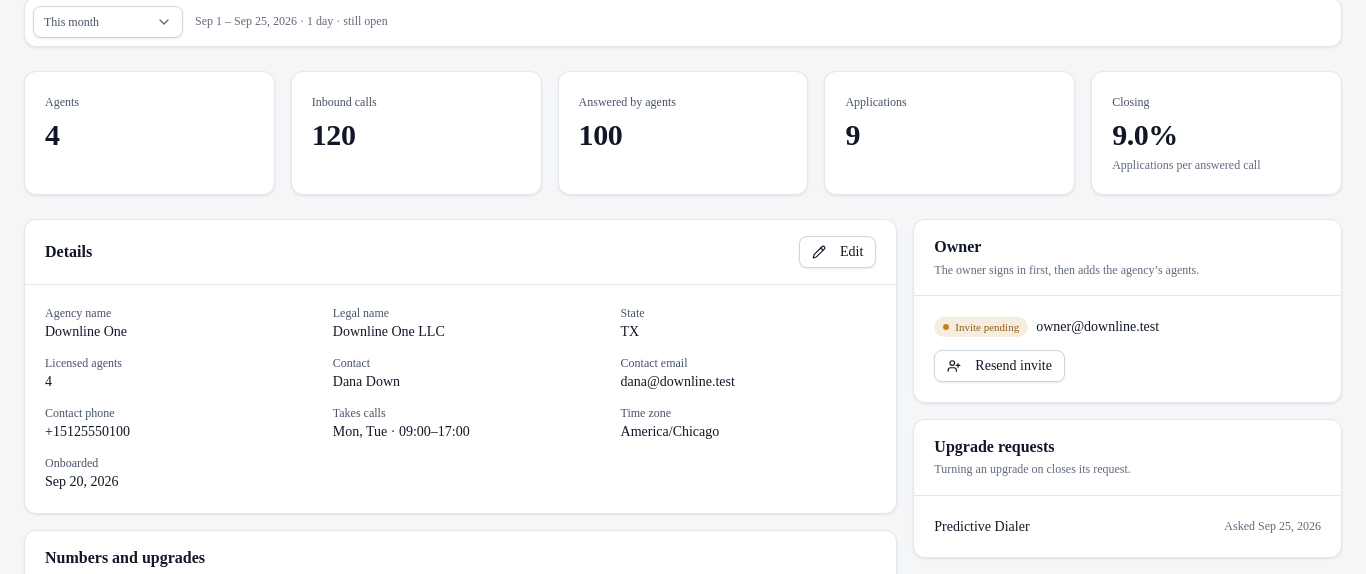
Scenario: white-label screens › /network/agencies/[tenantId] › cancels an edit without sending anything
expect the text "Dana Down" is shown: met, box [333,374,400,389]
Click the button "Edit" at (838, 252), box [799,236,876,268]
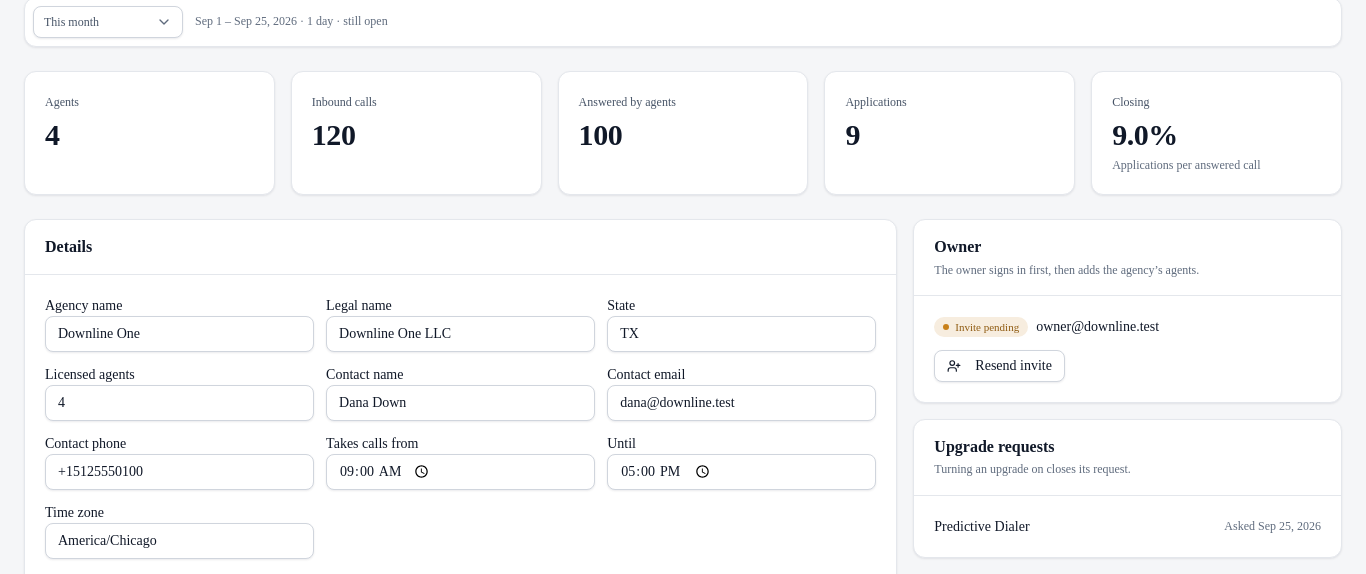
Replace the text in the field labelled "Contact name" with "Nope" at (461, 403), box [326,385,595,421]
(page scrolled)
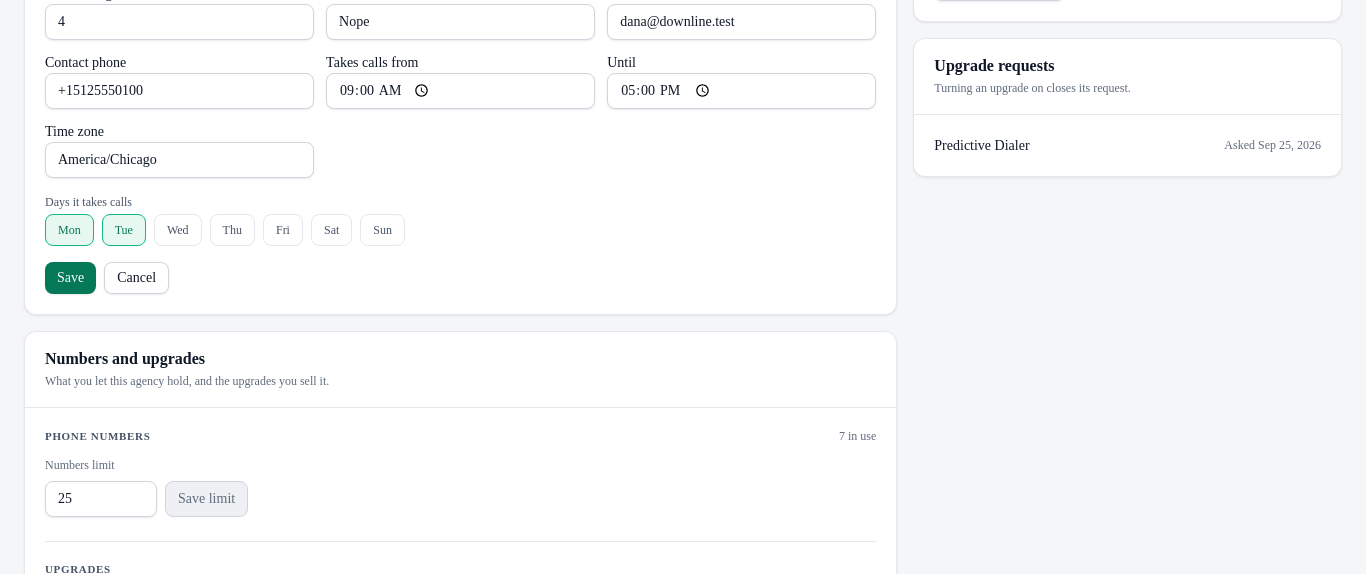
Click the button "Cancel" at (137, 278), box [104,262,169,294]
(page scrolled)
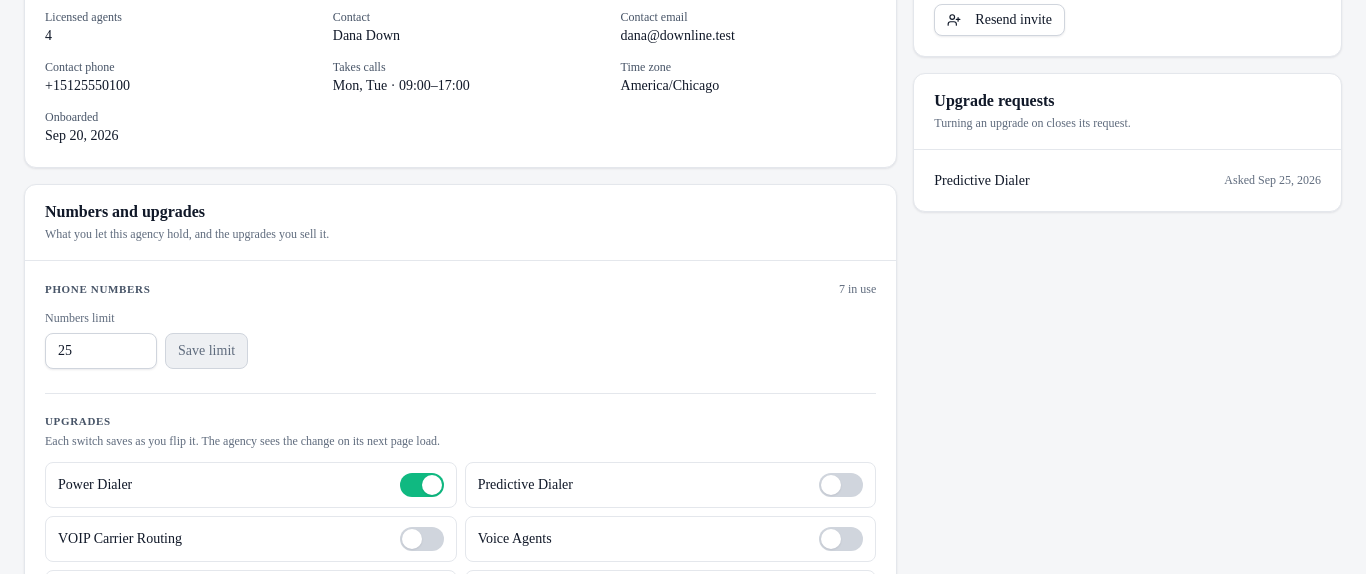
expect the text "Dana Down" is shown: met, box [333,28,400,43]
